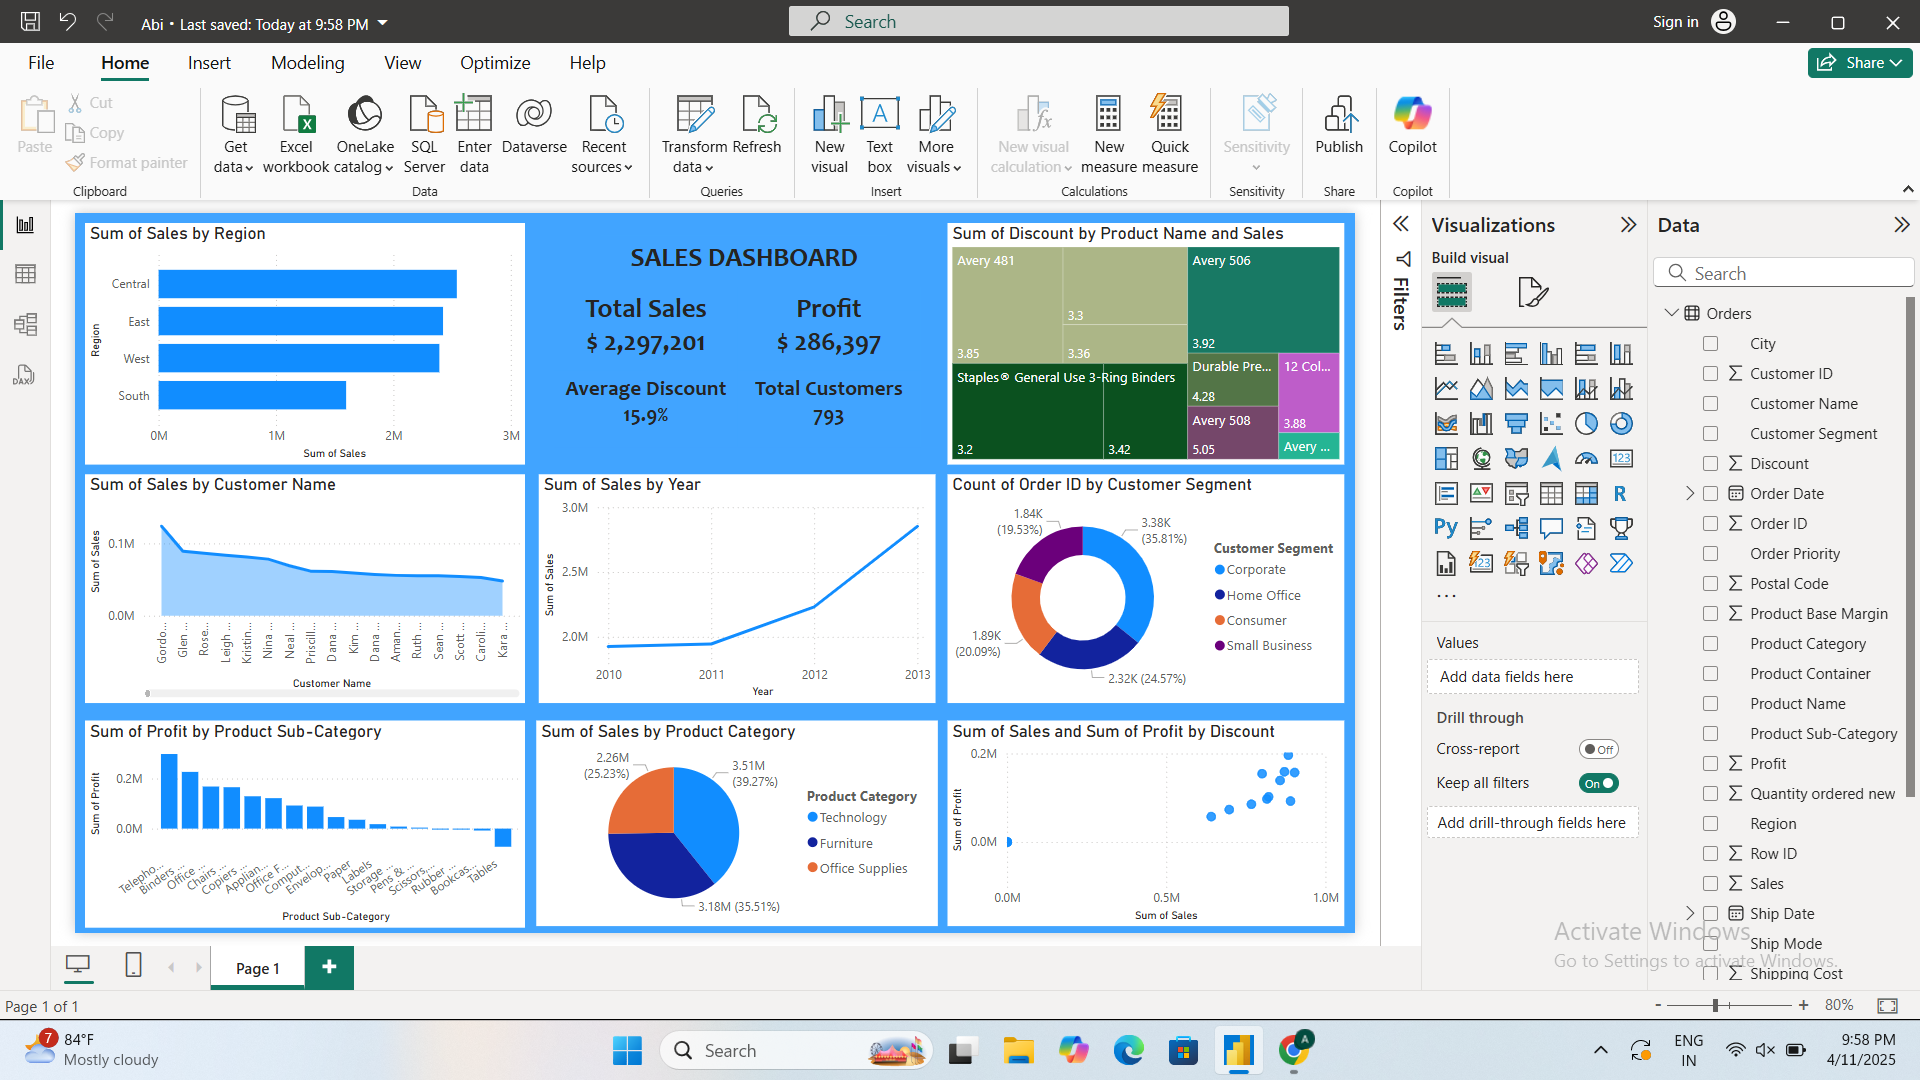

What the dashboard file says about the page in this screenshot:
{"tool":"powerbi","page":{"name":"Page 1","canvas":[1280,720],"ordinal":0},"visuals":[{"type":"barChart","fields":{"Y":["Sum(Orders.Sales)"],"Category":["Orders.Region"]},"box":[10,10,440,241.4],"z":0},{"type":"columnChart","fields":{"Category":["Orders.Product Sub-Category"],"Y":["Sum(Orders.Profit)"]},"box":[10,507.1,440,207.1],"z":1000},{"type":"lineChart","fields":{"Category":["Orders.Order Date.Variation.Date Hierarchy.Year","Orders.Order Date.Variation.Date Hierarchy.Quarter","Orders.Order Date.Variation.Date Hierarchy.Month","Orders.Order Date.Variation.Date Hierarchy.Day"],"Y":["Sum(Orders.Sales)"]},"box":[464.3,261.4,397.1,228.6],"z":2000},{"type":"pieChart","fields":{"Category":["Orders.Product Category"],"Y":["Sum(Orders.Sales)"]},"box":[461.4,507.1,401.4,205.7],"z":3000},{"type":"donutChart","fields":{"Category":["Orders.Customer Segment"],"Y":["CountNonNull(Orders.Order ID)"]},"box":[872.9,261.4,397.1,228.6],"z":4000},{"type":"scatterChart","fields":{"Category":["Orders.Discount"],"X":["Sum(Orders.Sales)"],"Y":["Sum(Orders.Profit)"]},"box":[872.9,507.1,397.1,205.7],"z":5000},{"type":"stackedAreaChart","fields":{"Y":["Sum(Orders.Sales)"],"Category":["Orders.Customer Name"]},"box":[10,261.4,440,228.6],"z":6000},{"type":"pieChart","fields":{"Category":["Orders.Product Name"],"Series":["Orders.Sales"],"Y":["Sum(Orders.Discount)"]},"box":[872.9,10,397.1,241.4],"z":7000},{"type":"textbox","box":[525.7,22.9,285.7,51.4],"z":8000},{"type":"textbox","box":[478.6,74.3,184.3,82.9],"z":9000},{"type":"textbox","box":[662.9,74.3,182.9,82.9],"z":10000},{"type":"textbox","box":[478.6,157.1,184.3,77.1],"z":11000},{"type":"textbox","box":[662.9,157.1,182.9,77.1],"z":12000}]}

Visuals, with their boxes on the page's 1280x720 design canvas (x1, y1, x2, y2). These are canvas units, not pixel positions in the 1920x1080 screenshot, which may show the page scaled, cropped or inside an application window:
barChart - Sum(Orders.Sales) x Orders.Region: [10,10,450,251]
columnChart - Orders.Product Sub-Category x Sum(Orders.Profit): [10,507,450,714]
lineChart - Orders.Order Date.Variation.Date Hierarchy.Year x Orders.Order Date.Variation.Date Hierarchy.Quarter: [464,261,861,490]
pieChart - Orders.Product Category x Sum(Orders.Sales): [461,507,863,713]
donutChart - Orders.Customer Segment x CountNonNull(Orders.Order ID): [873,261,1270,490]
scatterChart - Orders.Discount x Sum(Orders.Sales): [873,507,1270,713]
stackedAreaChart - Sum(Orders.Sales) x Orders.Customer Name: [10,261,450,490]
pieChart - Orders.Product Name x Orders.Sales: [873,10,1270,251]
textbox: [526,23,811,74]
textbox: [479,74,663,157]
textbox: [663,74,846,157]
textbox: [479,157,663,234]
textbox: [663,157,846,234]
